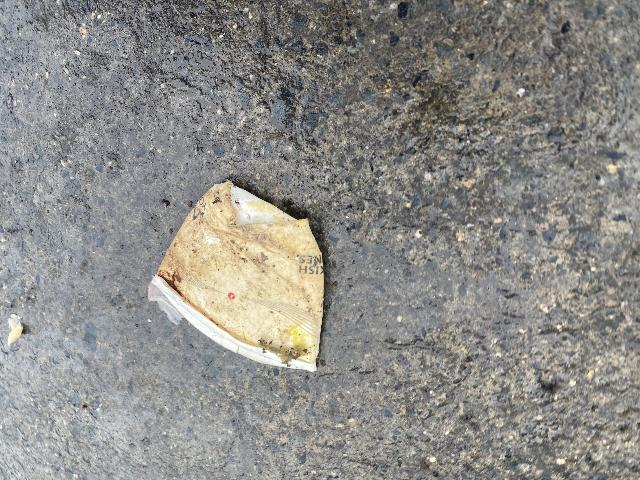Kagit: (141, 143, 332, 384)
